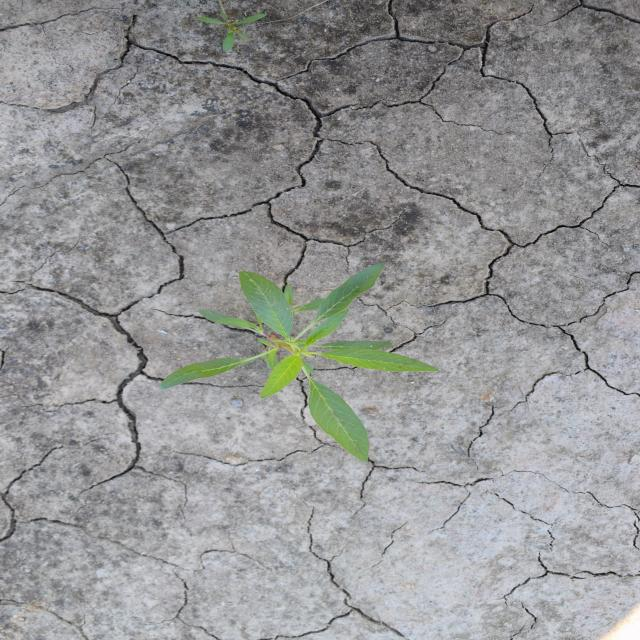Carpetweed: (192, 1, 272, 58)
Waterhemp: (153, 261, 443, 466)
